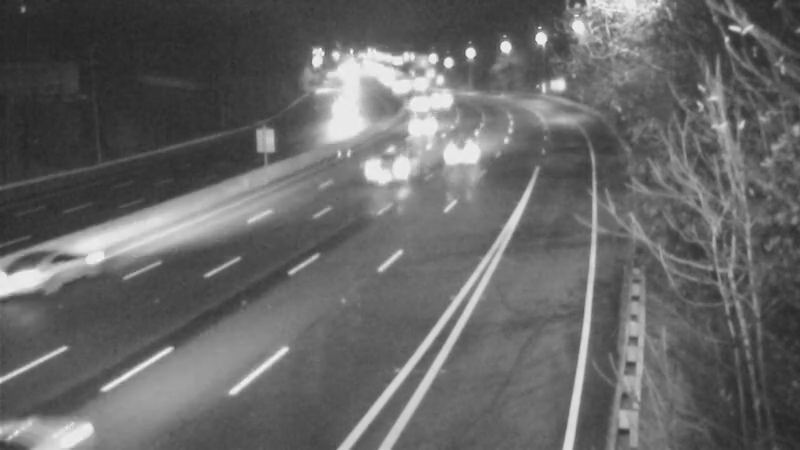vehicle: (417, 112, 497, 192), (353, 120, 433, 200), (3, 225, 83, 305), (415, 78, 465, 128), (396, 79, 446, 129), (394, 104, 444, 154), (320, 85, 370, 135)
